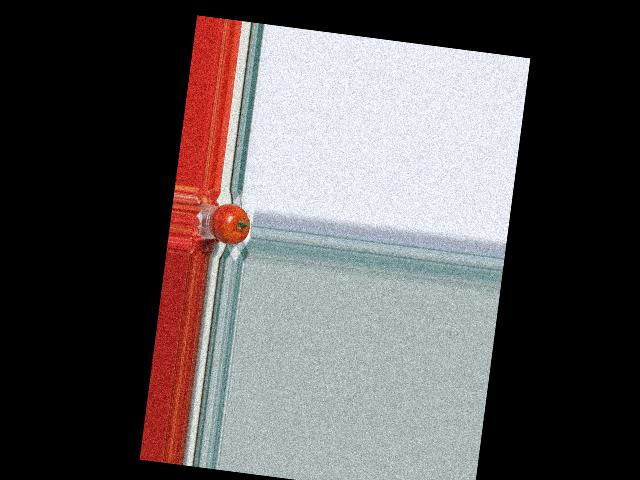tomato: (208, 200, 252, 246)
